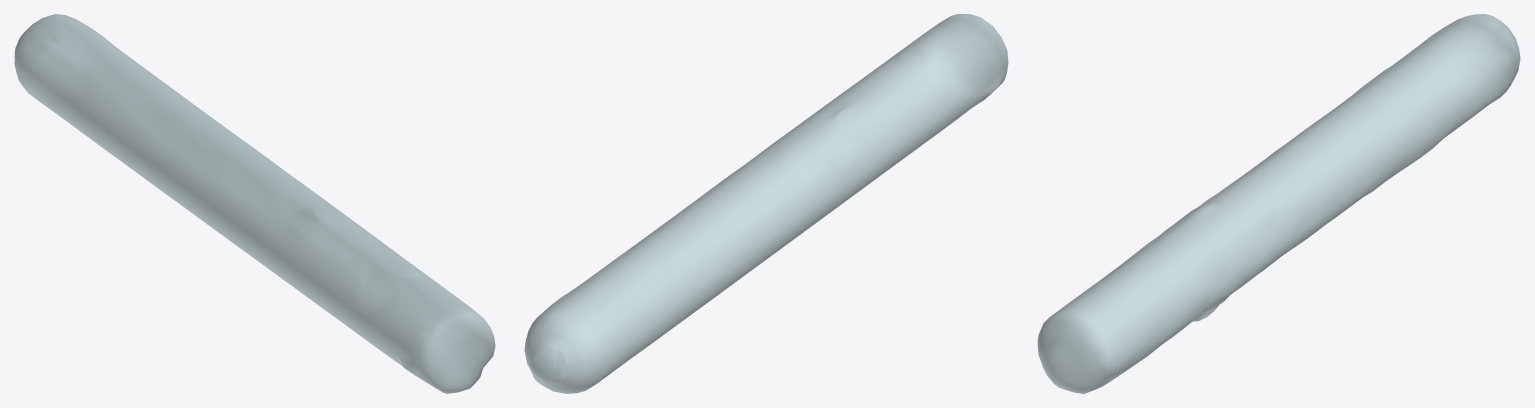
3 renders of one model, left to right at view 1: azimuth 30°, elevation 25°; view 2: azimuth 150°, elevation 25°; view 3: azimuth 330°, elevation 25°, orthographic.
Parts seen in each view (by area): view 1: scan.ply; view 2: scan.ply; view 3: scan.ply.
Boxes of the visible parts, x1=… form: scan.ply: x1=14, y1=14, x2=495, y2=393; scan.ply: x1=524, y1=14, x2=1008, y2=393; scan.ply: x1=1037, y1=14, x2=1520, y2=393.
Bounding box in the file's own units: 0.0156 × 0.0165 × 0.15.
